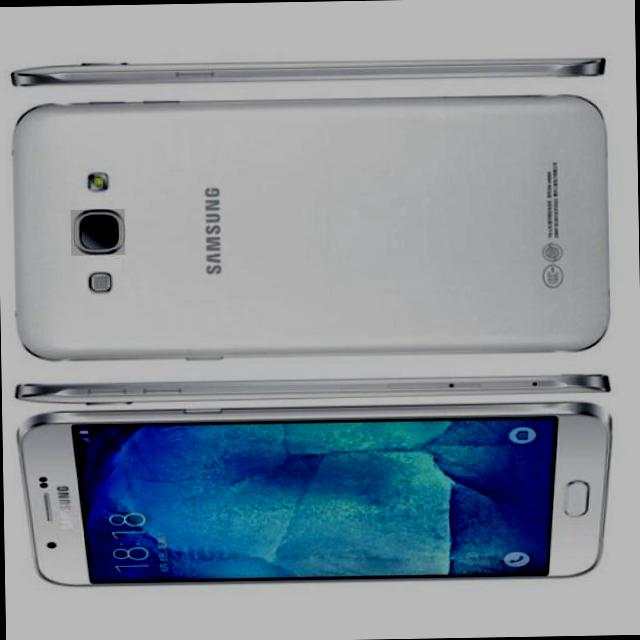lens_back: (71, 208, 126, 255)
phone: (2, 85, 620, 368), (16, 393, 620, 592)
